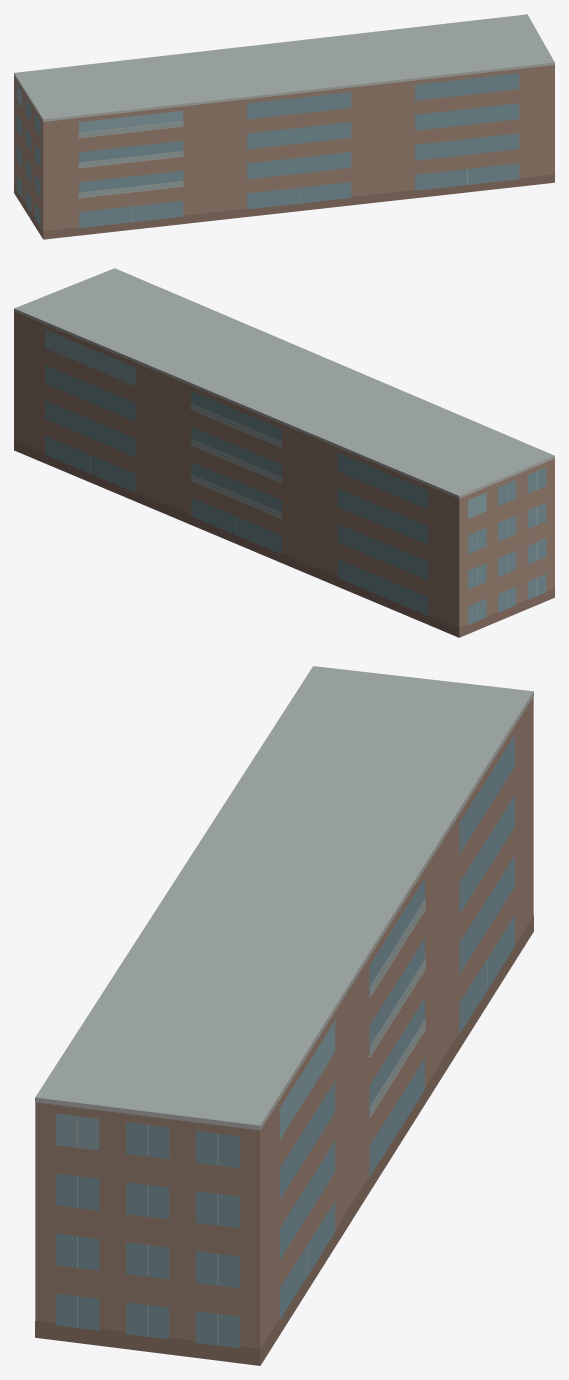
File: survey-upis-32731589.glb
The picture shows the model from 3 angles, top to bottom: view 1: azimuth 30°, elevation 25°; view 2: azimuth 150°, elevation 25°; view 3: azimuth 270°, elevation 25°; orthographic projection. The views are drawn at different scales.
Visible parts, largest first — view 1: survey-upis-32731589.tmp; view 2: survey-upis-32731589.tmp; view 3: survey-upis-32731589.tmp.
Boxes of the visible parts, bbox=[...] form: survey-upis-32731589.tmp: bbox=[14, 14, 554, 239]; survey-upis-32731589.tmp: bbox=[14, 268, 554, 637]; survey-upis-32731589.tmp: bbox=[35, 666, 533, 1365].
Size of the model in its own units: 50.08 by 12.2 by 22.97.
